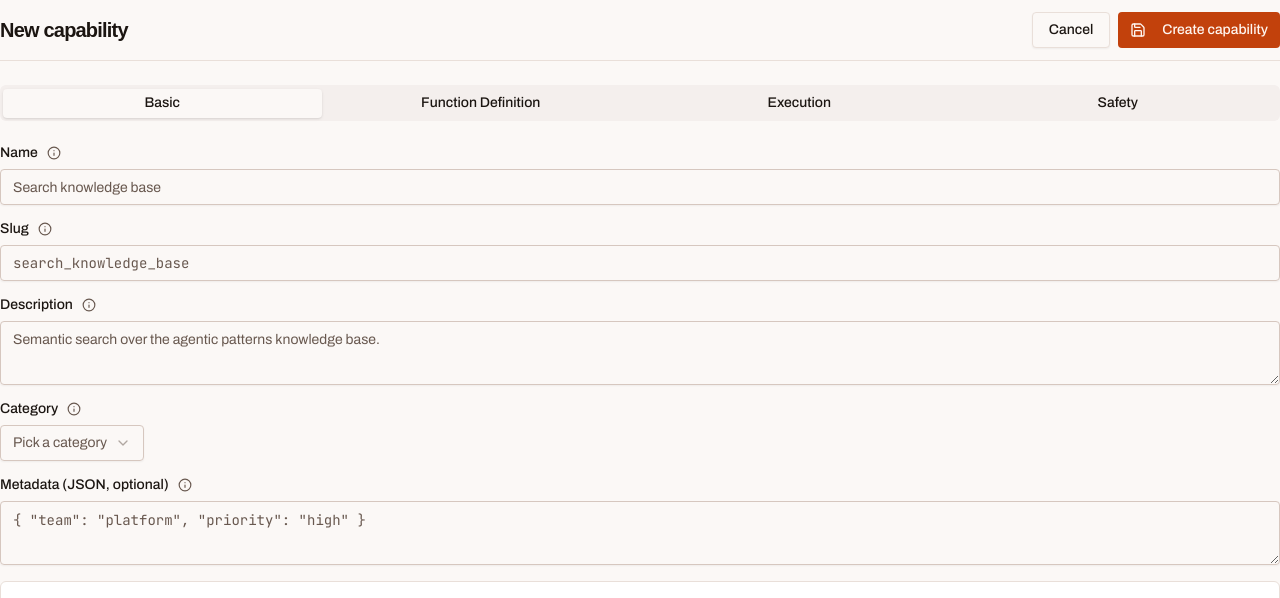
Test: CapabilityForm — Function Definition tab › visual builder › trash button removes a parameter row
Step 1. Click the tab "Function Definition" → (481, 103), box [322,88,640,118]
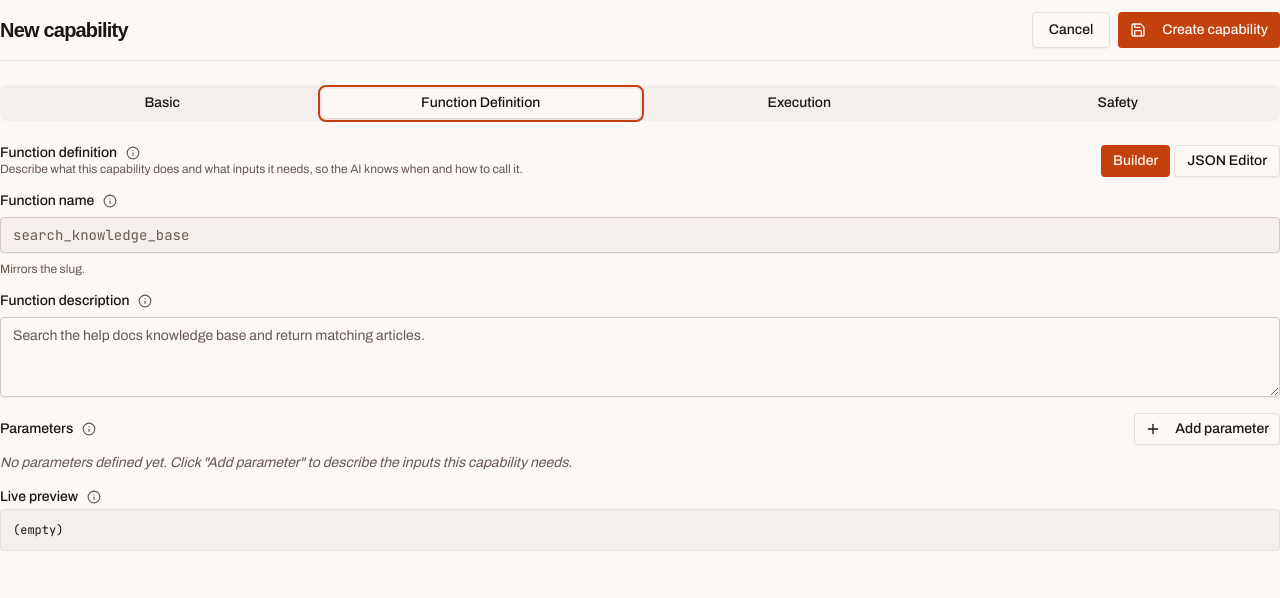
Step 2. Click the button "Add parameter" → (1207, 429), box [1134,413,1279,445]
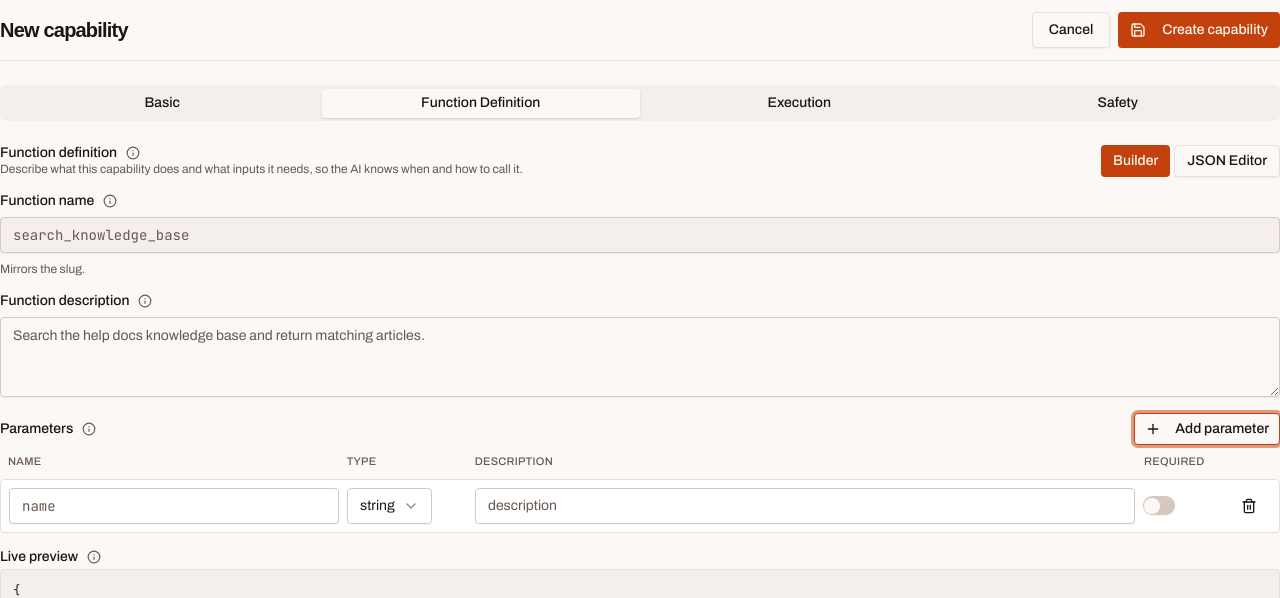
Step 3. Click the button "Add parameter" → (1207, 429), box [1134,413,1279,445]
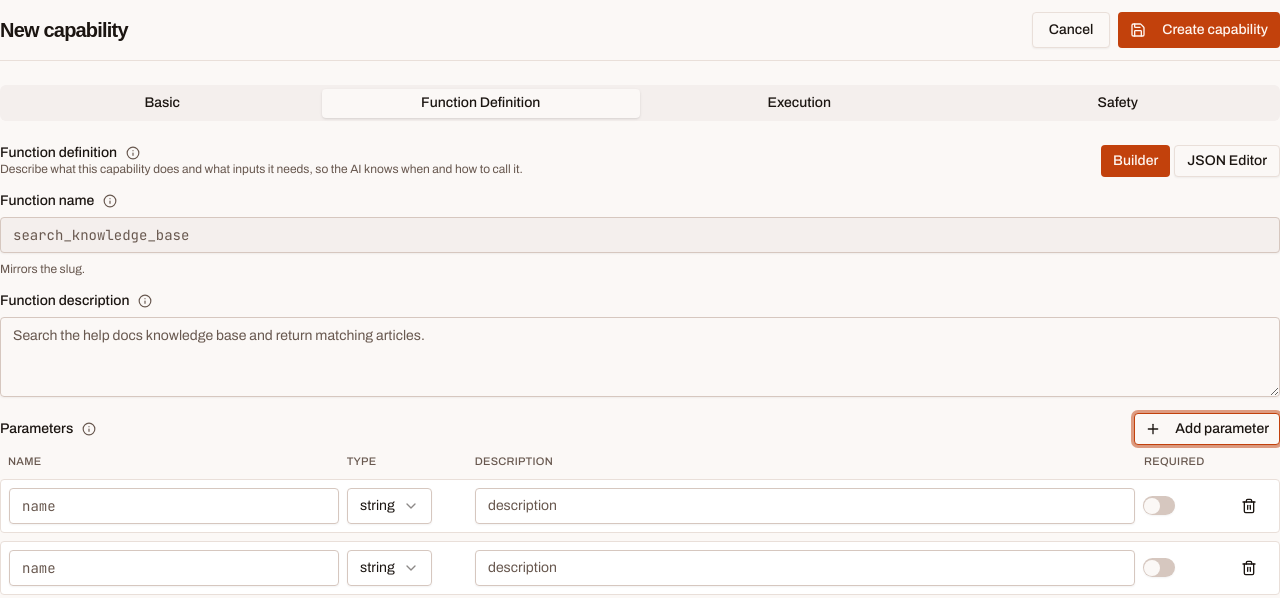
Step 4. Click the 1st button named "remove parameter" → (1249, 506), box [1231,488,1267,524]
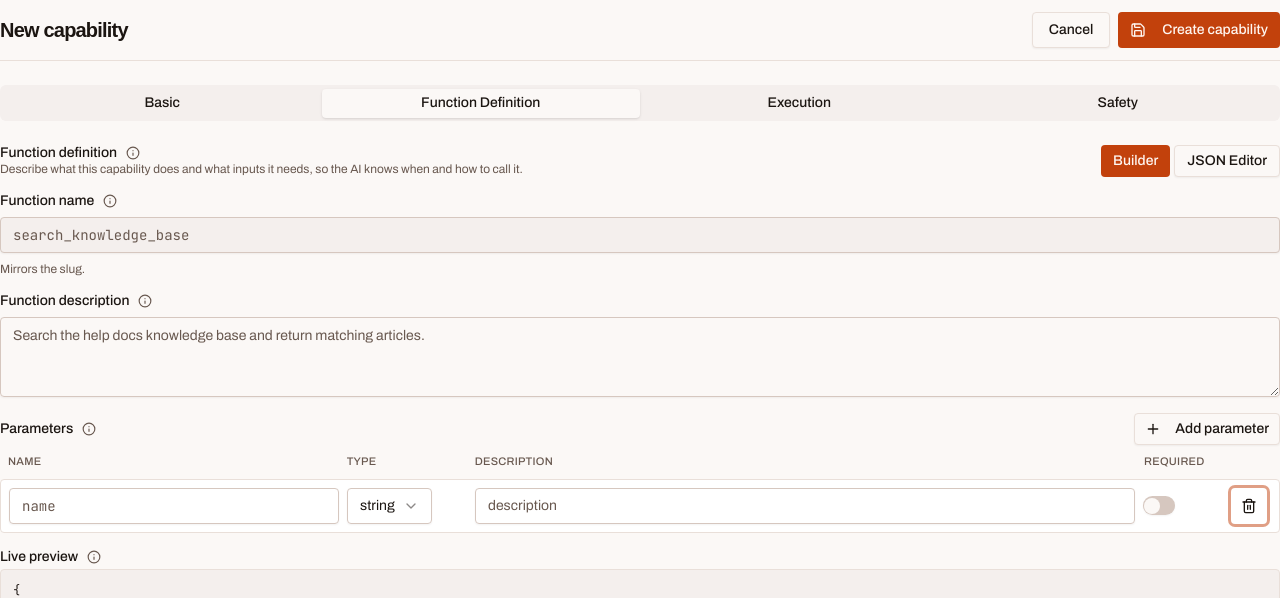
Result: the number of fields with placeholder "name" is 1 at [9,488,339,524]
